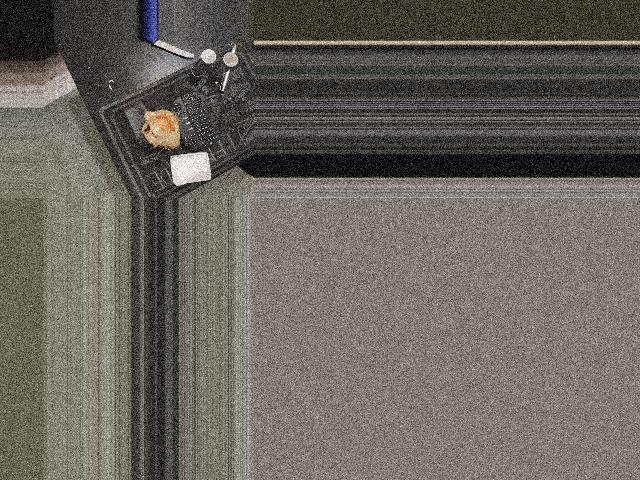onion: (142, 108, 184, 150)
